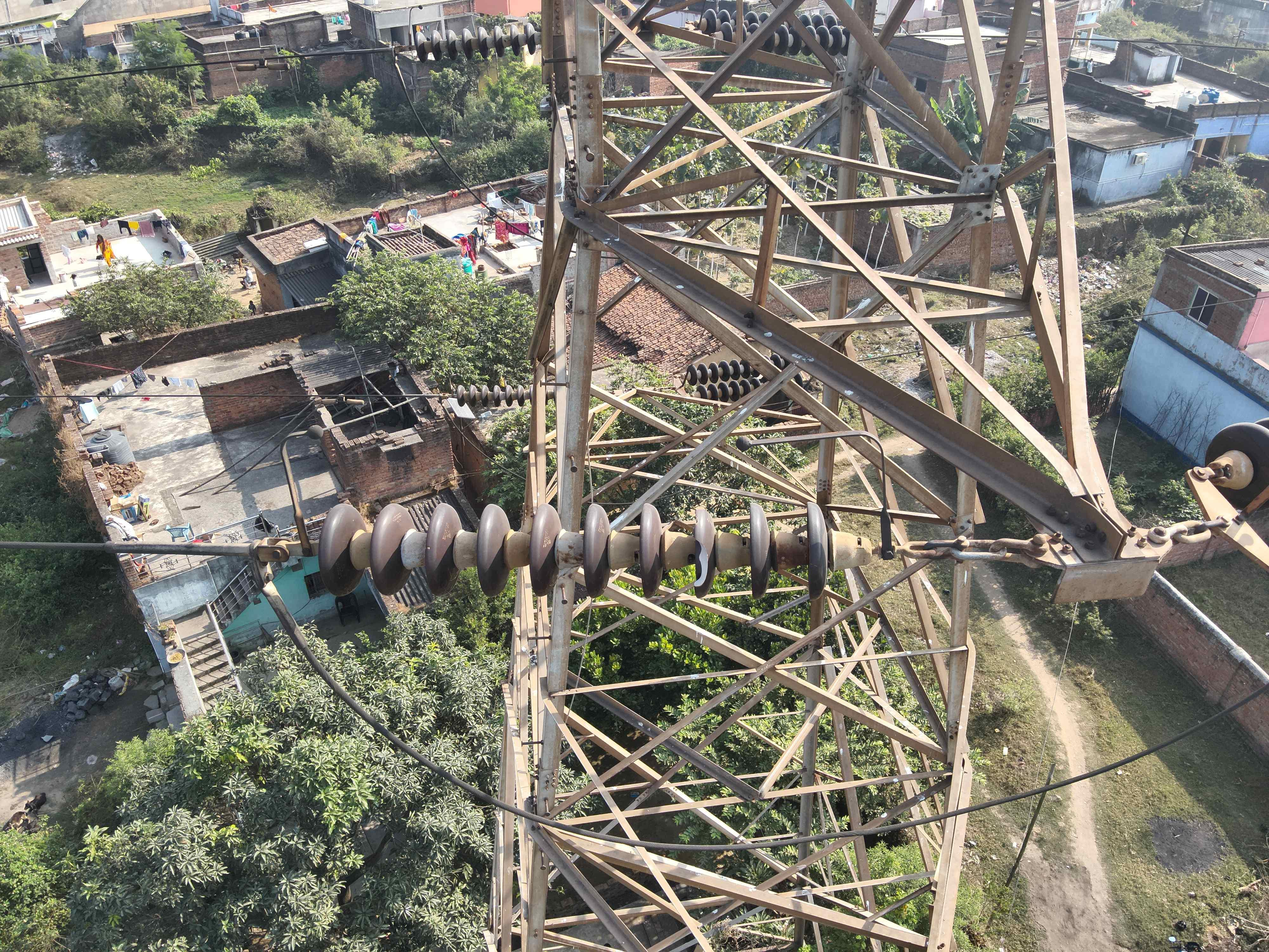broken_insulator: (688, 506, 718, 600)
